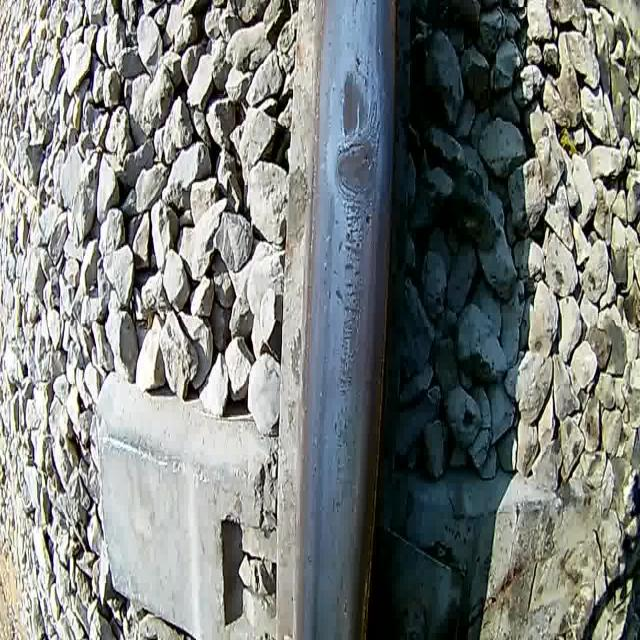Squats: (334, 135, 379, 199), (337, 66, 371, 140)
